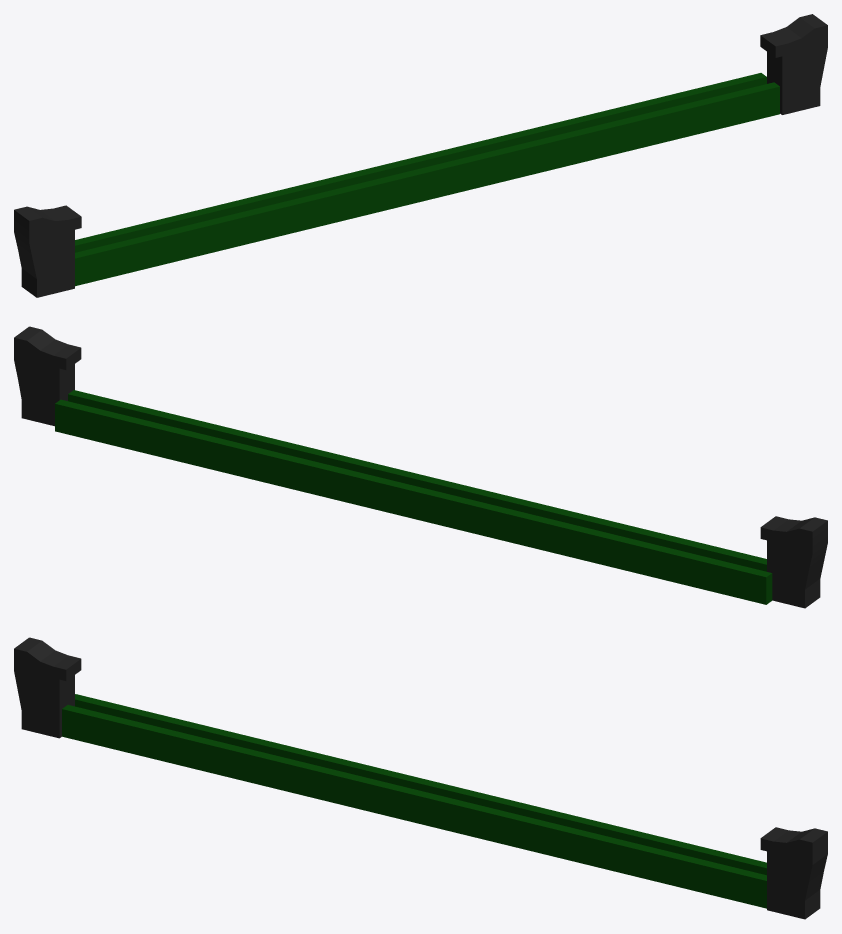
The model's file is electronic4.fbx.
3 views of the same model, one above another, from view 1: azimuth 30°, elevation 25°; view 2: azimuth 150°, elevation 25°; view 3: azimuth 330°, elevation 25° (orthographic).
Parts seen in each view (by area): view 1: electronic4; view 2: electronic4; view 3: electronic4.
Boxes of the visible parts, x1=… form: electronic4: x1=14, y1=14, x2=827, y2=297; electronic4: x1=14, y1=326, x2=827, y2=608; electronic4: x1=14, y1=637, x2=827, y2=919.
Size of the model in its own units: 1.26 by 0.1189 by 0.0583.
